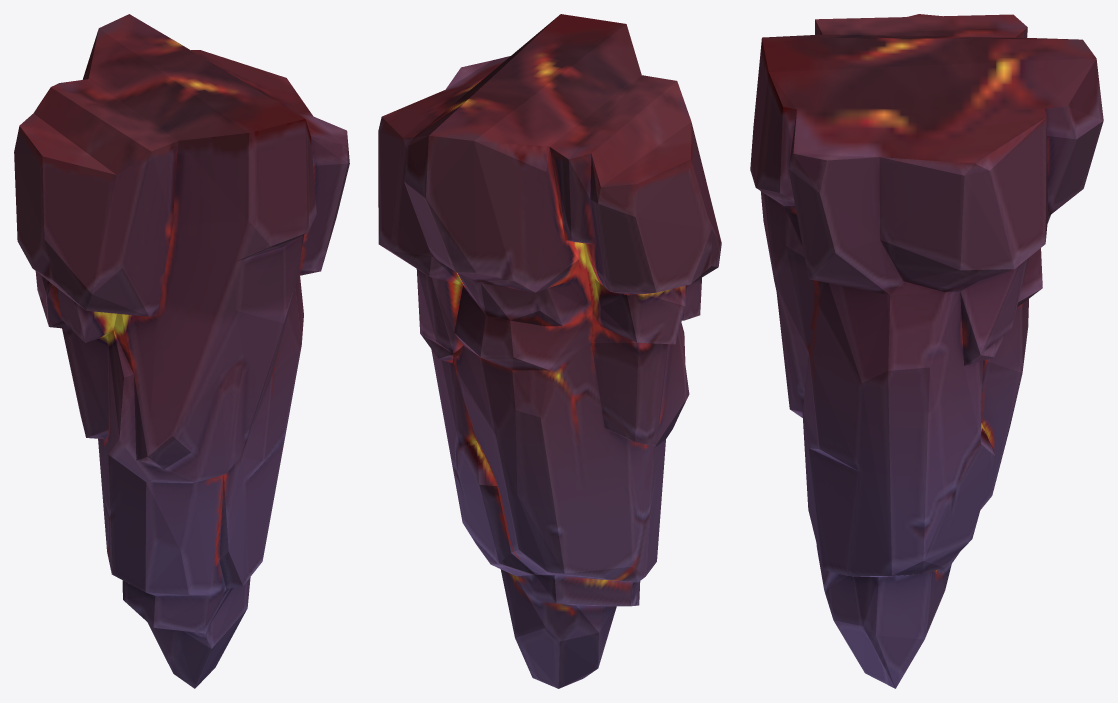
The model's file is huo_01.FBX.
3 renders of one model, left to right at view 1: azimuth 30°, elevation 25°; view 2: azimuth 150°, elevation 25°; view 3: azimuth 270°, elevation 25°, orthographic. The views are drawn at different scales.
Parts seen in each view (by area): view 1: huo_01; view 2: huo_01; view 3: huo_01.
Part boxes in pixels (x1,y1,x2,y2): huo_01: [14, 14, 349, 688]; huo_01: [378, 14, 721, 688]; huo_01: [750, 14, 1103, 688].
Bounding box in the file's own units: 1.35 × 2.7 × 1.35.
Materials: 1 (1 with a texture image).
